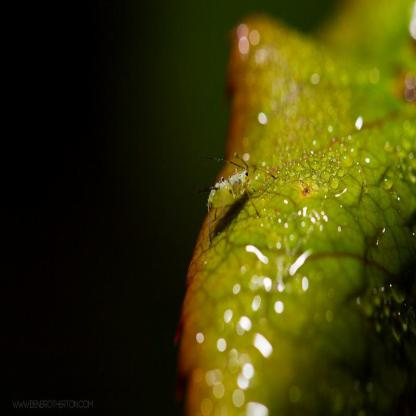aphid: (201, 139, 271, 242)
